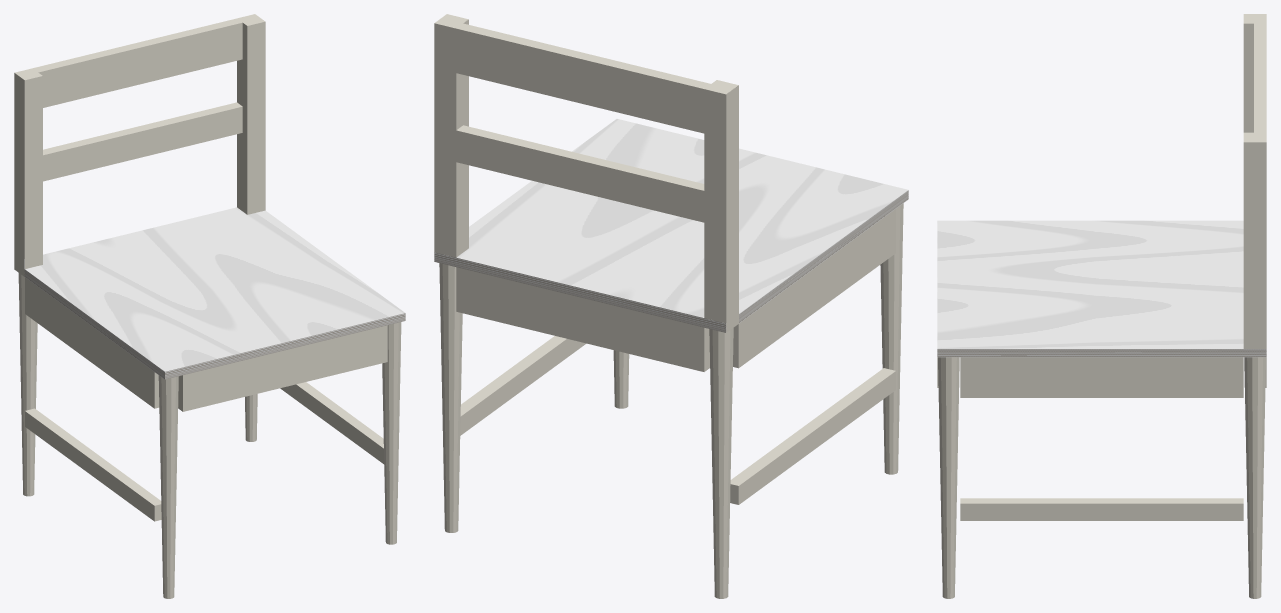
Rendered from LIT-OCH-std.glb.
3 views of the same model, side by side, from view 1: azimuth 30°, elevation 25°; view 2: azimuth 150°, elevation 25°; view 3: azimuth 270°, elevation 25° (orthographic). The views are drawn at different scales.
Visible parts, largest first — view 1: seat:sheet:eyJtIjoicGx5Iiwic2lkZSI6ImZhY2UiLCJzZWVkIjo2LCJ2Z, back-top:pbr, leg-bl:pbr, rail-f:pbr, back-mid:pbr, leg-br:pbr, rail-l:pbr, leg-fl:pbr, stretcher-l:pbr, leg-fr:pbr, stretcher-r:pbr, seat:sheet:eyJtIjoicGx5Iiwic2lkZSI6ImVkZ2UtZW5kIiwic2VlZCI6N (+1 smaller); view 2: seat:sheet:eyJtIjoicGx5Iiwic2lkZSI6ImZhY2UiLCJzZWVkIjo2LCJ2Z, leg-bl:pbr, back-top:pbr, leg-br:pbr, rail-b:pbr, back-mid:pbr, rail-l:pbr, stretcher-l:pbr, leg-fl:pbr, stretcher-r:pbr, seat:sheet:eyJtIjoicGx5Iiwic2lkZSI6ImVkZ2UtZW5kIiwic2VlZCI6N, seat:sheet:eyJtIjoicGx5Iiwic2lkZSI6ImVkZ2UtbG9uZyIsInNlZWQiO (+1 smaller); view 3: seat:sheet:eyJtIjoicGx5Iiwic2lkZSI6ImZhY2UiLCJzZWVkIjo2LCJ2Z, rail-r:pbr, leg-br:pbr, stretcher-r:pbr, leg-fr:pbr, seat:sheet:eyJtIjoicGx5Iiwic2lkZSI6ImVkZ2UtbG9uZyIsInNlZWQiO, leg-bl:pbr, back-top:pbr.
Boxes of the visible parts, x1,y1,x2,y2 form: seat:sheet:eyJtIjoicGx5Iiwic2lkZSI6ImZhY2UiLCJzZWVkIjo2LCJ2Z: (24,207,404,371); back-top:pbr: (33,18,242,107); leg-bl:pbr: (14,68,42,496); rail-f:pbr: (178,325,387,411); back-mid:pbr: (43,102,242,181); leg-br:pbr: (237,14,265,441); rail-l:pbr: (25,277,159,408); leg-fl:pbr: (158,375,178,598); stretcher-l:pbr: (25,408,161,521); leg-fr:pbr: (382,322,401,544); stretcher-r:pbr: (280,382,384,464); seat:sheet:eyJtIjoicGx5Iiwic2lkZSI6ImVkZ2UtZW5kIiwic2VlZCI6N: (165,313,405,379); seat:sheet:eyJtIjoicGx5Iiwic2lkZSI6ImZhY2UiLCJzZWVkIjo2LCJ2Z: (456,119,907,317); leg-bl:pbr: (704,80,738,598); back-top:pbr: (456,23,710,133); leg-br:pbr: (434,14,468,532); rail-b:pbr: (456,267,709,371); back-mid:pbr: (456,125,704,222); rail-l:pbr: (733,209,895,368); stretcher-l:pbr: (730,368,895,504); leg-fl:pbr: (880,203,903,474); stretcher-r:pbr: (460,336,586,435); seat:sheet:eyJtIjoicGx5Iiwic2lkZSI6ImVkZ2UtZW5kIiwic2VlZCI6N: (434,252,725,332); seat:sheet:eyJtIjoicGx5Iiwic2lkZSI6ImVkZ2UtbG9uZyIsInNlZWQiO: (726,190,908,332); seat:sheet:eyJtIjoicGx5Iiwic2lkZSI6ImZhY2UiLCJzZWVkIjo2LCJ2Z: (937,220,1243,348); rail-r:pbr: (960,357,1243,397); leg-br:pbr: (1243,132,1266,598); stretcher-r:pbr: (960,498,1243,520); leg-fr:pbr: (938,357,959,598); seat:sheet:eyJtIjoicGx5Iiwic2lkZSI6ImVkZ2UtbG9uZyIsInNlZWQiO: (937,349,1266,357); leg-bl:pbr: (1243,14,1266,132); back-top:pbr: (1254,23,1266,132).
Size of the model in its own units: 0.4801 by 0.8 by 0.52.
Materials: 15 (3 with a texture image).
